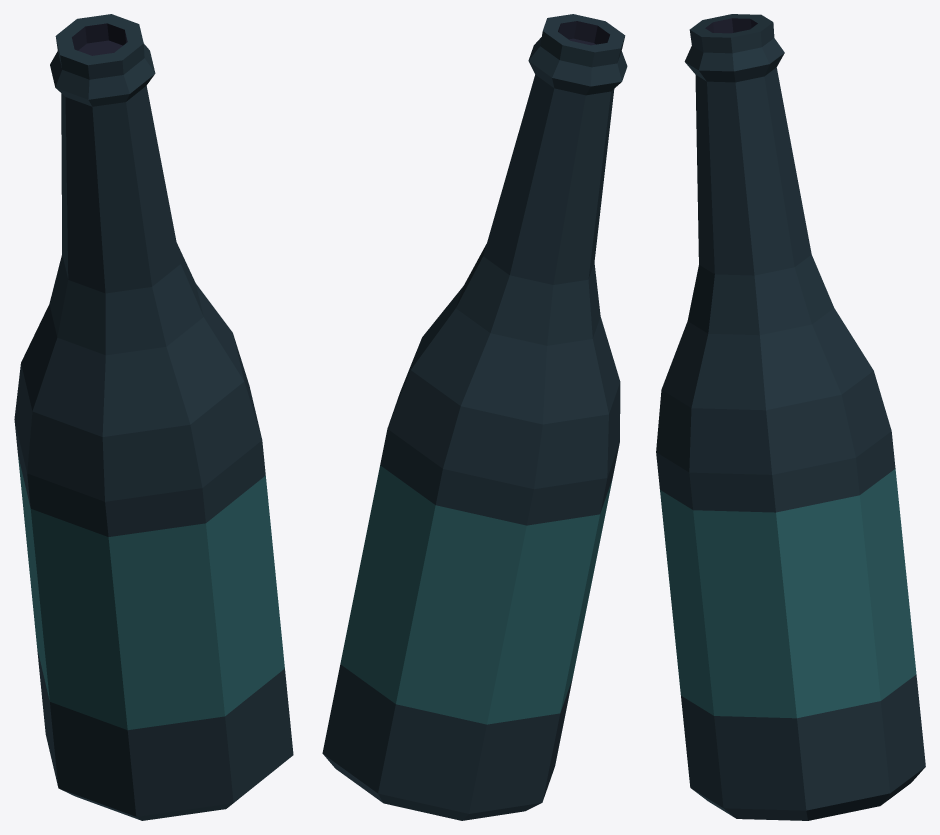
File: FizzyDrink.ChortleBerryWine.o.fbx
3 renders of one model, left to right at view 1: azimuth 30°, elevation 25°; view 2: azimuth 150°, elevation 25°; view 3: azimuth 270°, elevation 25°, orthographic. The views are drawn at different scales.
Visible parts, largest first — view 1: FizzyDrink.ChortleBerryWine.o; view 2: FizzyDrink.ChortleBerryWine.o; view 3: FizzyDrink.ChortleBerryWine.o.
Boxes of the visible parts, x1,y1,x2,y2 form: FizzyDrink.ChortleBerryWine.o: [14, 14, 293, 820]; FizzyDrink.ChortleBerryWine.o: [322, 14, 627, 820]; FizzyDrink.ChortleBerryWine.o: [656, 14, 925, 820].
Bounding box in the file's own units: 46.45 × 132 × 43.67.
